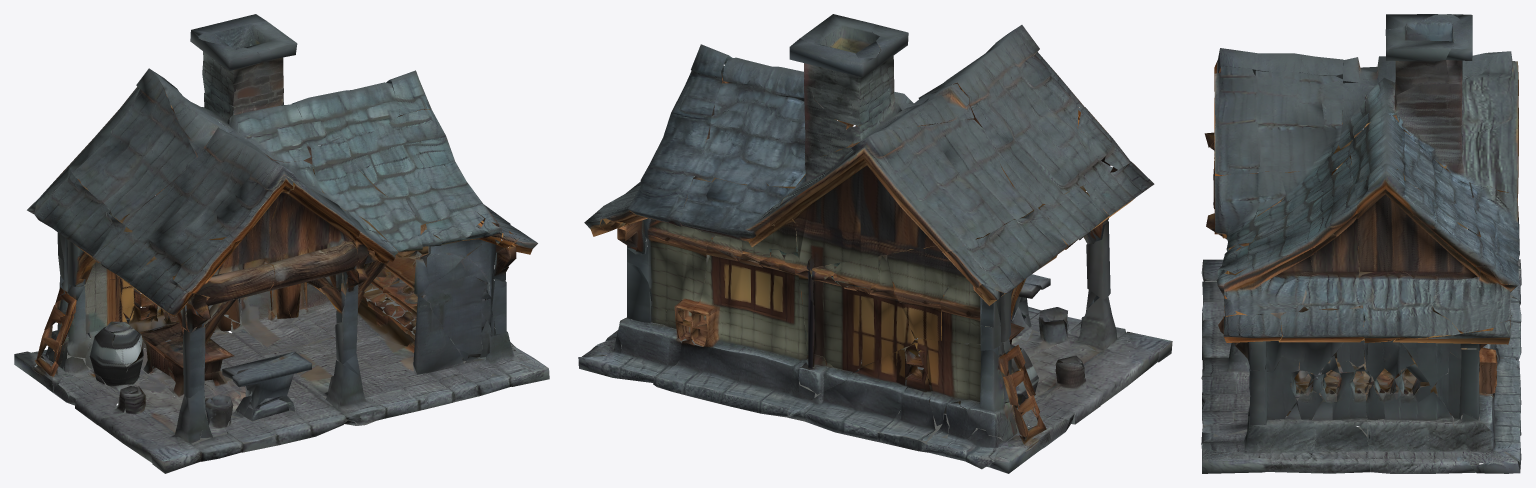
Rendered from mesh_union_forge_a.glb.
The picture shows the model from 3 angles, left to right: view 1: azimuth 30°, elevation 25°; view 2: azimuth 150°, elevation 25°; view 3: azimuth 270°, elevation 25°; orthographic projection. The views are drawn at different scales.
Visible parts, largest first — view 1: mesh_union_forge_a__mesh_union_forge_a__Mesh_0; view 2: mesh_union_forge_a__mesh_union_forge_a__Mesh_0; view 3: mesh_union_forge_a__mesh_union_forge_a__Mesh_0.
Part boxes in pixels (box(x1,y1,x2,y2)): mesh_union_forge_a__mesh_union_forge_a__Mesh_0: box(14, 14, 549, 473); mesh_union_forge_a__mesh_union_forge_a__Mesh_0: box(578, 14, 1172, 473); mesh_union_forge_a__mesh_union_forge_a__Mesh_0: box(1201, 14, 1521, 473).
Size of the model in its own units: 20 by 15.58 by 13.34.
1 material, 1 textured.
